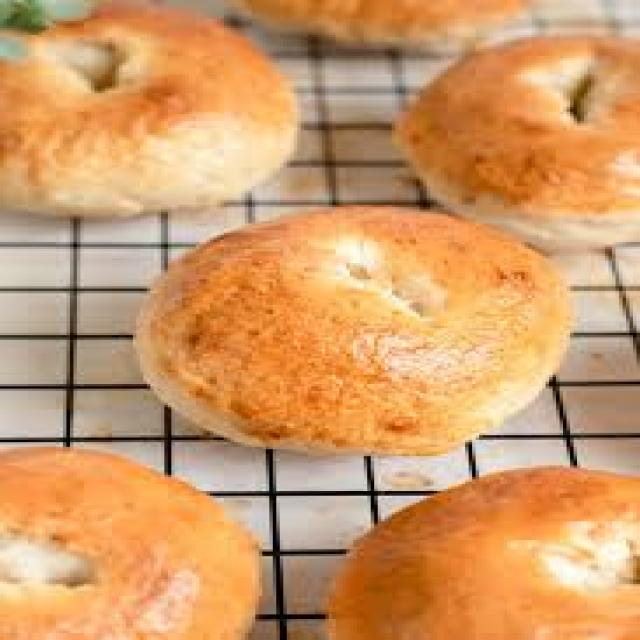Bagel: (135, 206, 569, 454), (2, 7, 295, 216), (331, 467, 639, 640), (398, 37, 639, 247), (2, 450, 257, 639)
